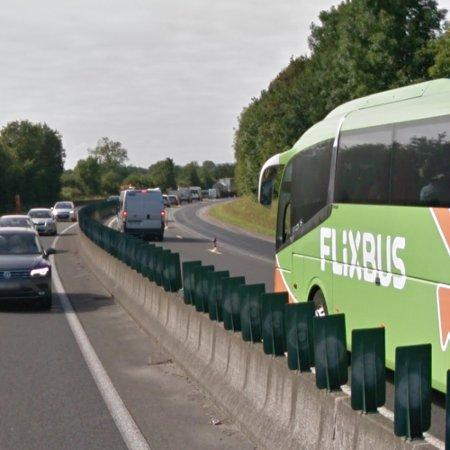buses: (259, 79, 450, 392)
